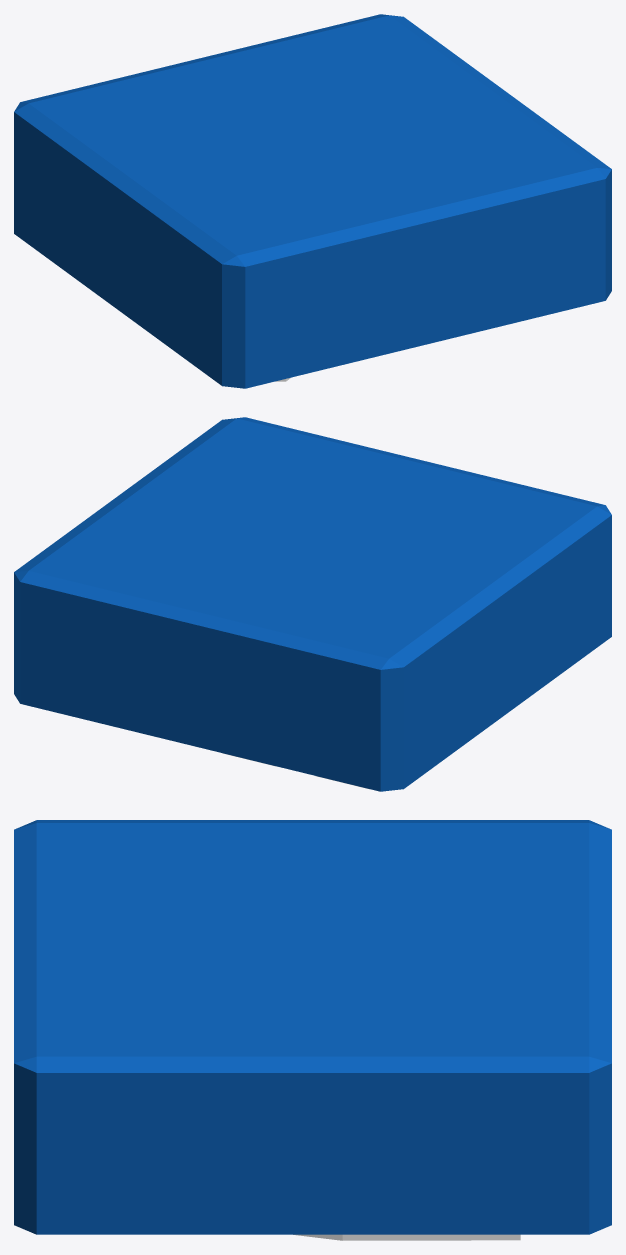
The model's file is linkedin.glb.
3 renders of one model, top to bottom at view 1: azimuth 30°, elevation 25°; view 2: azimuth 150°, elevation 25°; view 3: azimuth 270°, elevation 25°, orthographic. The views are drawn at different scales.
Visible parts, largest first — view 1: Cube.002; view 2: Cube.002; view 3: Cube.002.
Boxes of the visible parts, x1,y1,x2,y2 form: Cube.002: (14, 14, 611, 388); Cube.002: (14, 417, 611, 791); Cube.002: (14, 820, 611, 1240).
Bounding box in the file's own units: 0.2336 × 0.0918 × 0.2336.
